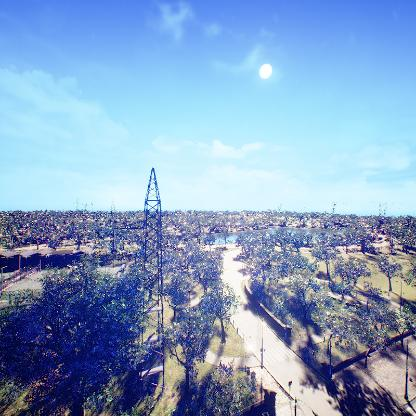tower: (108, 165, 190, 403)
